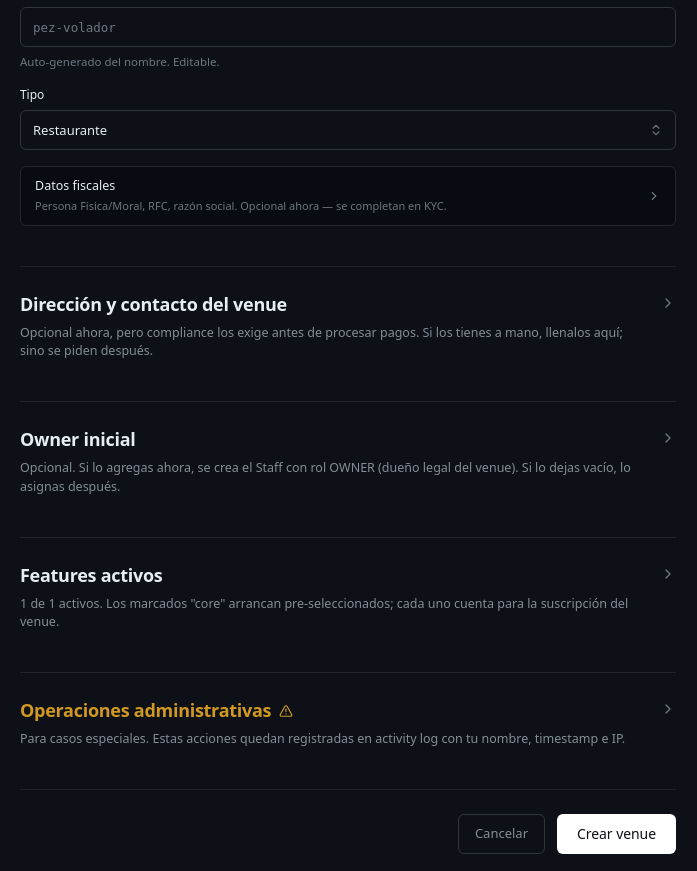
Scenario: NewVenuePage › al expandir "Features activos" se muestra el catálogo de features
(page scrolled)
Click the button "Features activos": click(348, 597) left=20, top=562, right=676, bottom=632
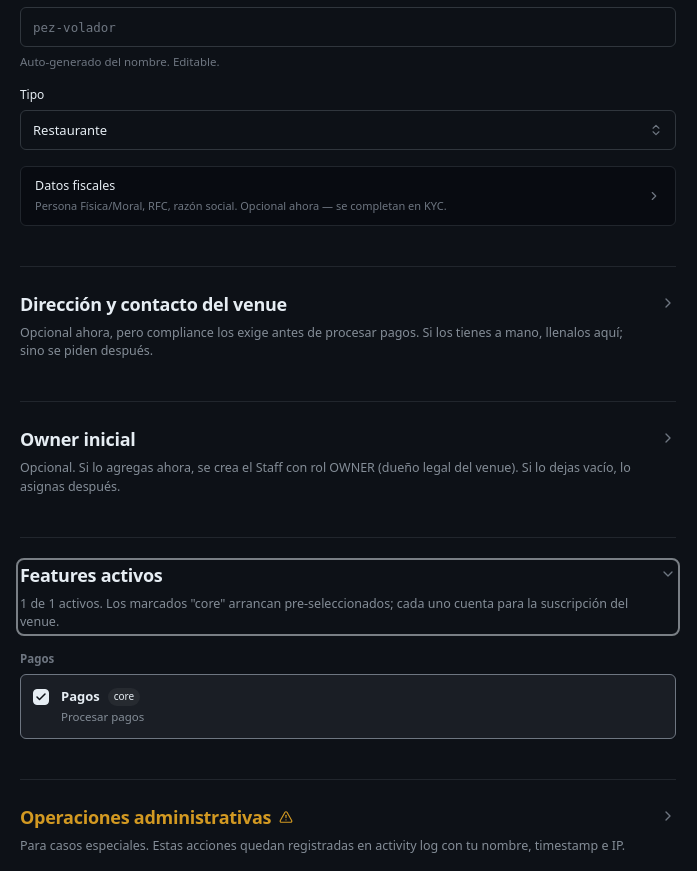
Expected: the text "Procesar pagos" is shown, left=61, top=709, right=144, bottom=724
